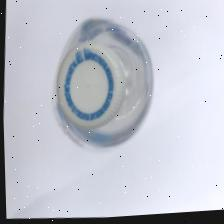plastic: (48, 14, 158, 166)
